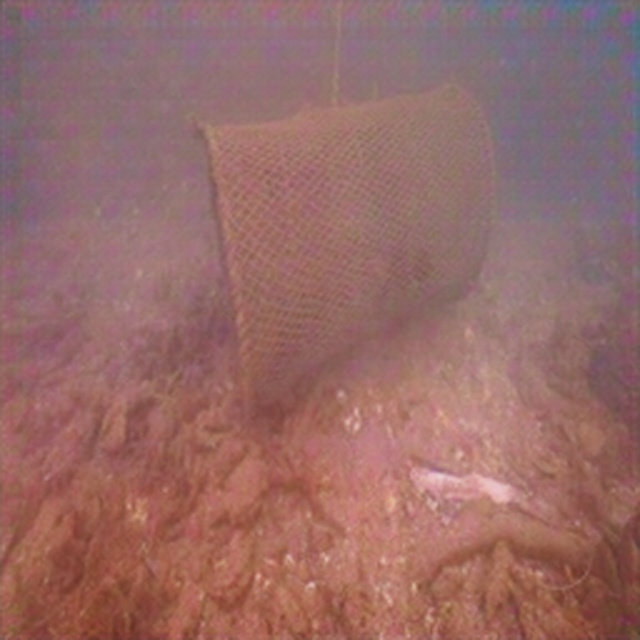mine: (190, 76, 498, 426)
